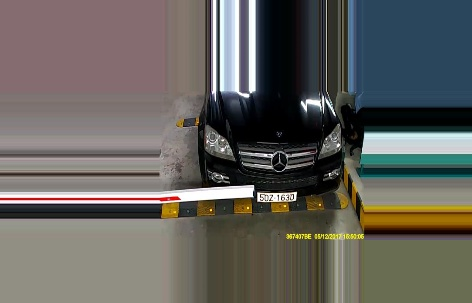plate: (255, 188, 297, 204)
